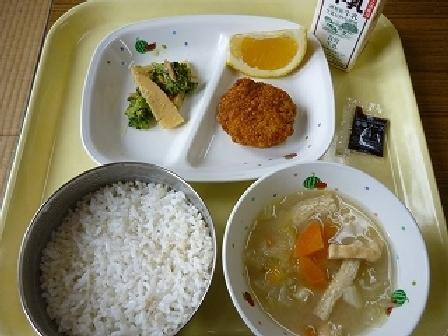Milk: (302, 0, 391, 75)
Rice: (28, 167, 214, 329)
Soups: (227, 162, 434, 335)
cutlet: (214, 75, 301, 146)
orange: (217, 22, 310, 73)
salad with sauce: (112, 49, 200, 128)
